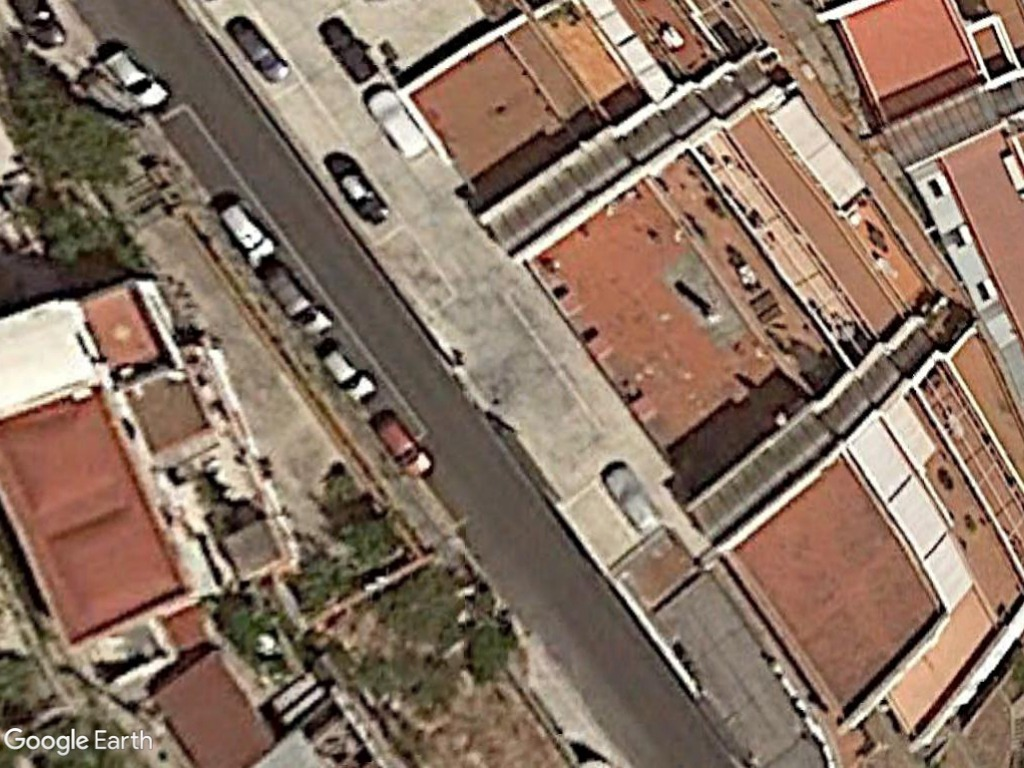car: (367, 415, 436, 480), (102, 48, 172, 112), (317, 339, 378, 407), (215, 202, 277, 265)
